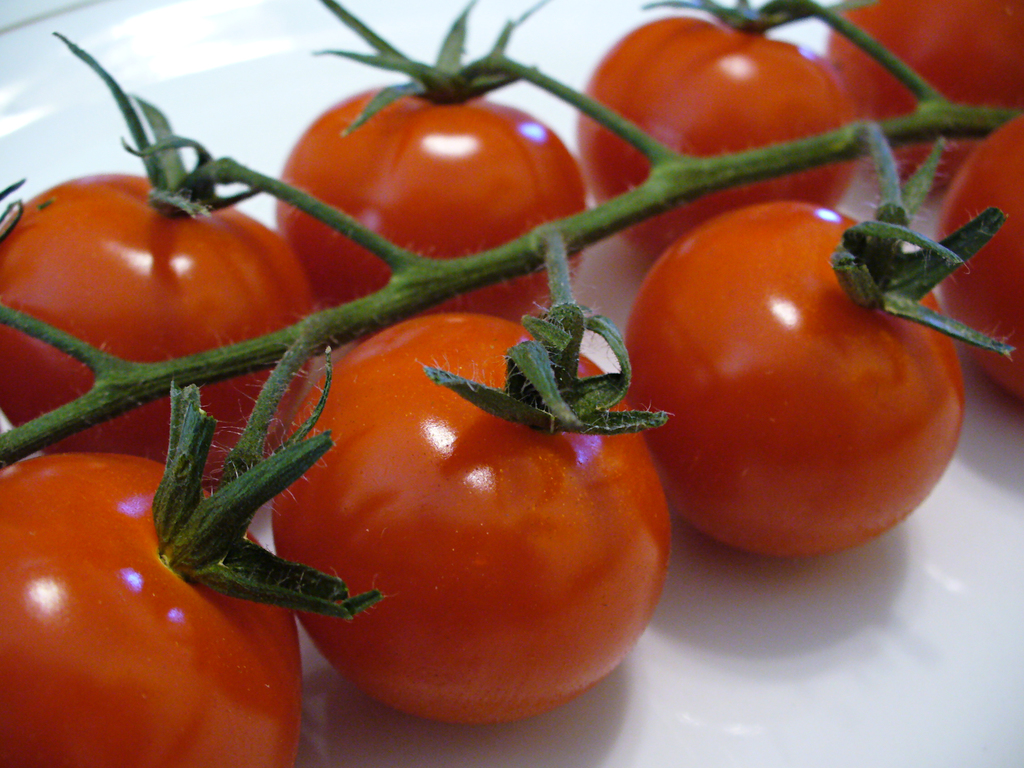Tomato: (0, 0, 1023, 768)
